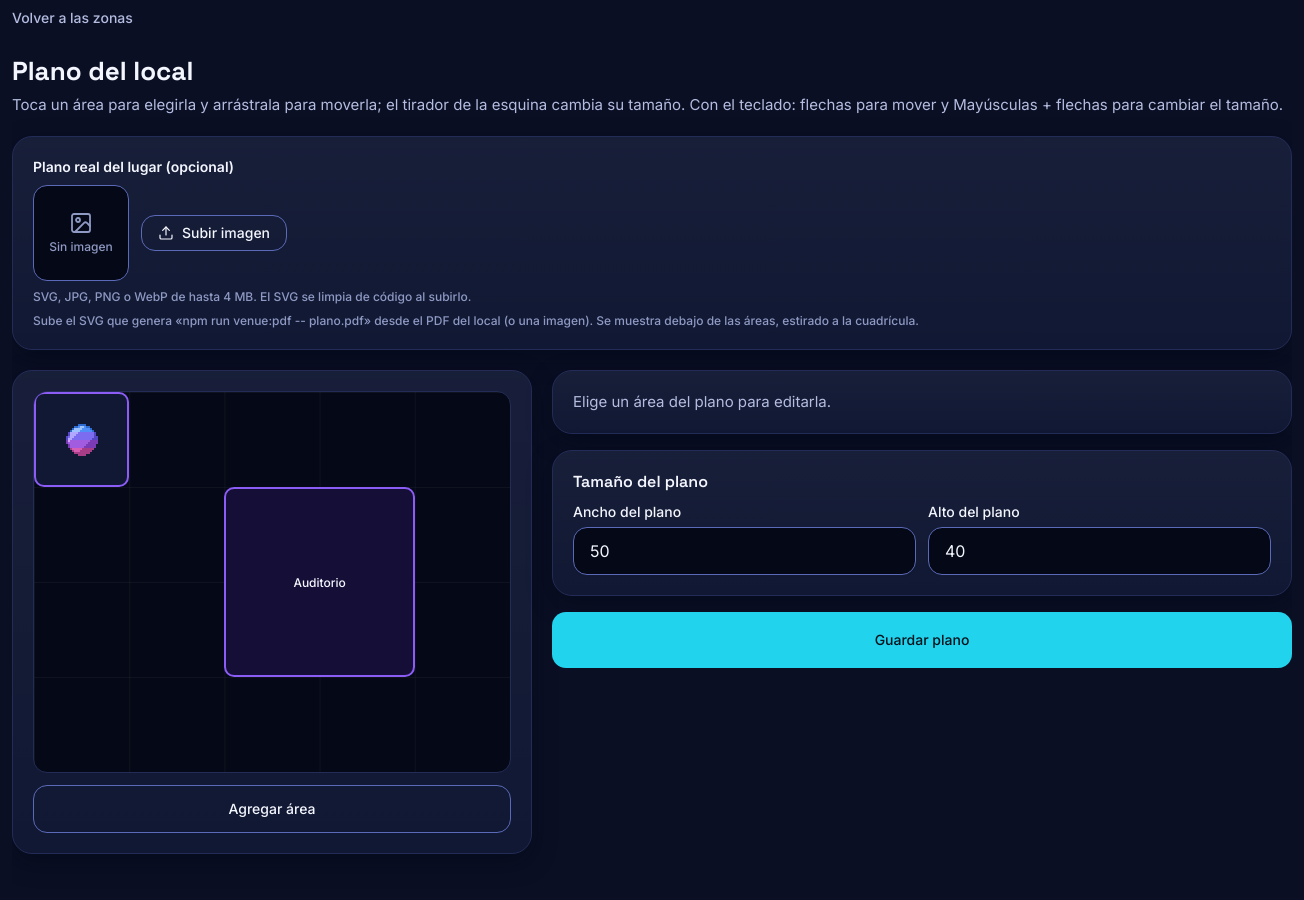
Test: VenueEditor › saves, says how many stand QR codes were created, and links to Puestos
Step 1. Click the button "Guardar plano" → (922, 640), box [552, 612, 1292, 668]
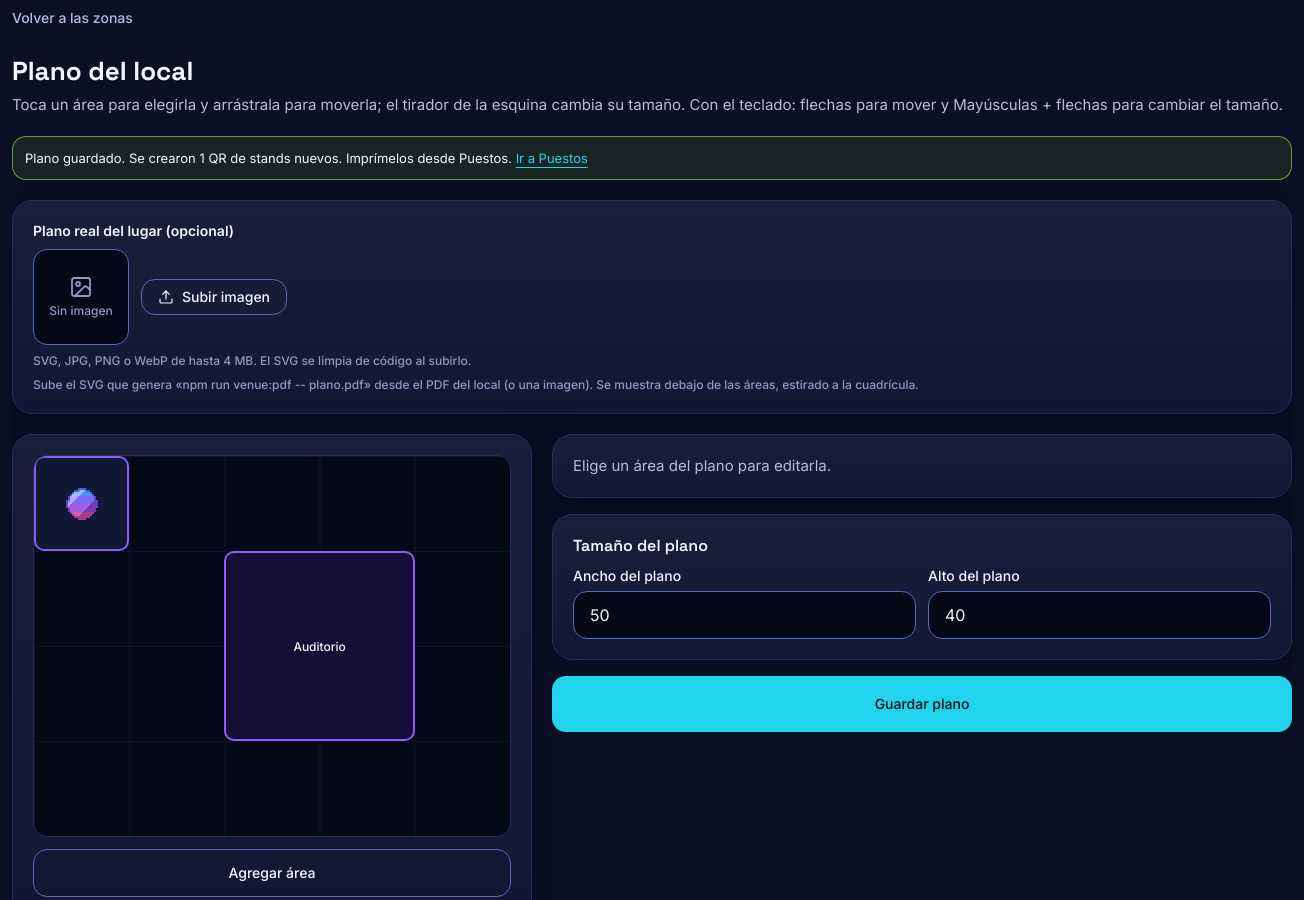
Now the message shows "Plano guardado. Se crearon 1 QR de stands nuevos.", box [25, 150, 512, 166]
